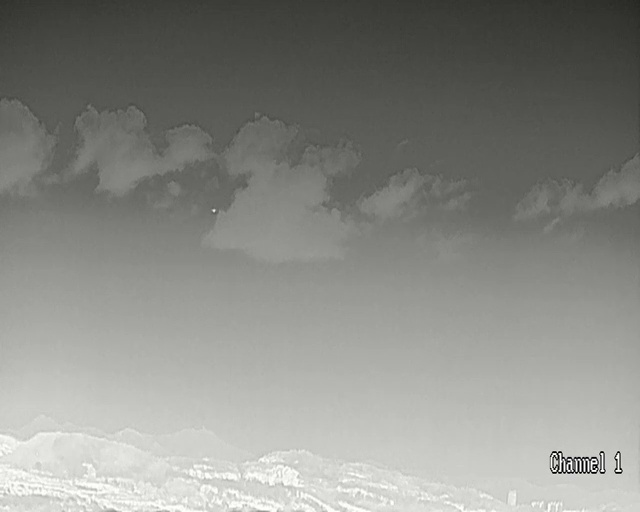uav: (212, 208, 215, 212)
